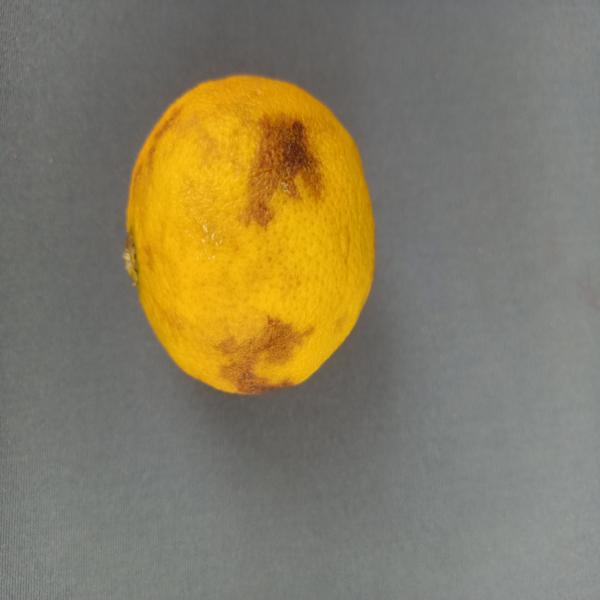Scab: (116, 76, 384, 410)
